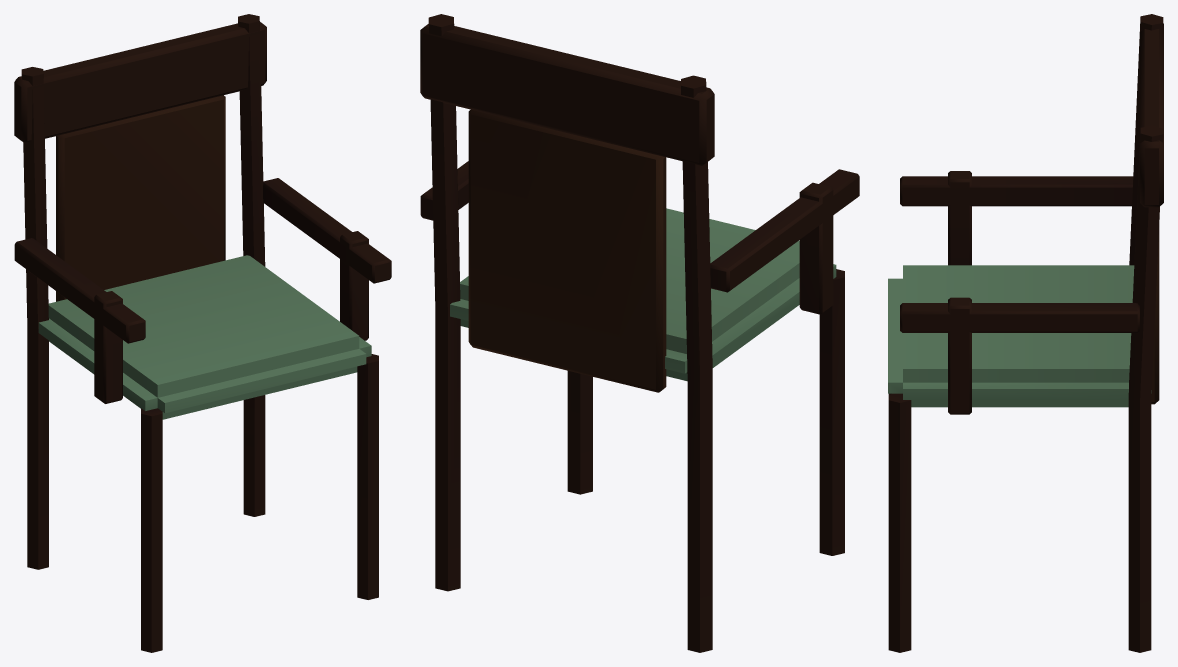
File: fs-dining-chair.glb
3 views of the same model, side by side, from view 1: azimuth 30°, elevation 25°; view 2: azimuth 150°, elevation 25°; view 3: azimuth 270°, elevation 25° (orthographic). The views are drawn at different scales.
Parts seen in each view (by area): view 1: frame__wood, seat__fabric; view 2: frame__wood, seat__fabric; view 3: frame__wood, seat__fabric.
Part boxes in pixels (x1,y1,x2,y2): frame__wood: (14, 14, 391, 652); seat__fabric: (38, 255, 371, 419); frame__wood: (420, 14, 859, 652); seat__fabric: (450, 208, 836, 381); frame__wood: (888, 14, 1163, 652); seat__fabric: (888, 265, 1151, 407).
Bounding box in the file's own units: 0.54 × 0.9508 × 0.46.
